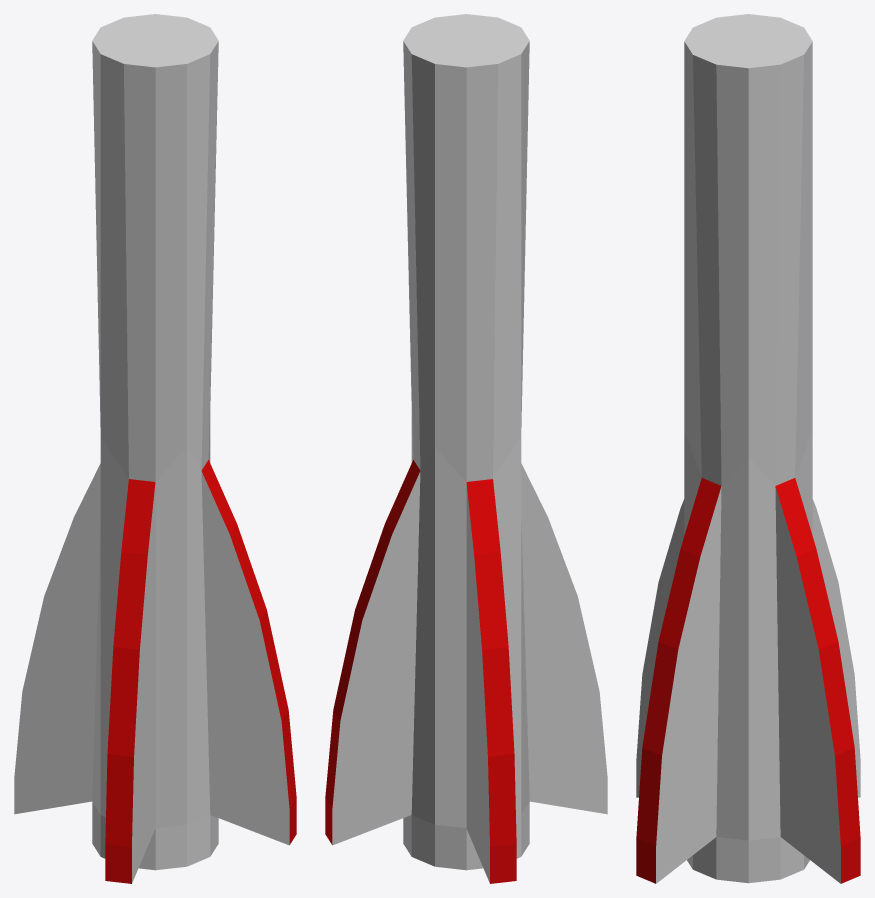
Rendered from Tank01.gltf.
The picture shows the model from 3 angles, left to right: view 1: azimuth 30°, elevation 25°; view 2: azimuth 150°, elevation 25°; view 3: azimuth 270°, elevation 25°; orthographic projection.
Visible parts, largest first — view 1: Tank01; view 2: Tank01; view 3: Tank01.
Part boxes in pixels (<box>): Tank01: <box>14,14,296,883</box>; Tank01: <box>325,14,607,883</box>; Tank01: <box>636,14,860,883</box>.
Bounding box in the file's own units: 0.8728 × 3.5 × 0.8728.
